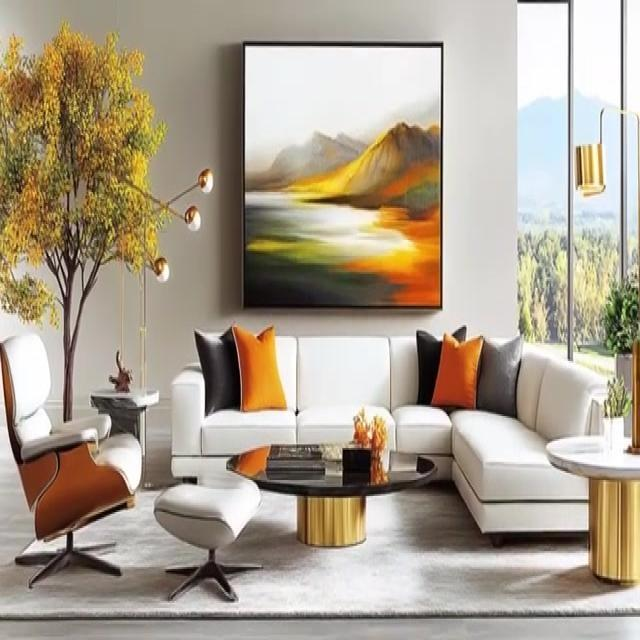obstacle: (169, 329, 611, 546), (0, 331, 142, 588), (225, 442, 437, 548), (545, 432, 639, 585)
